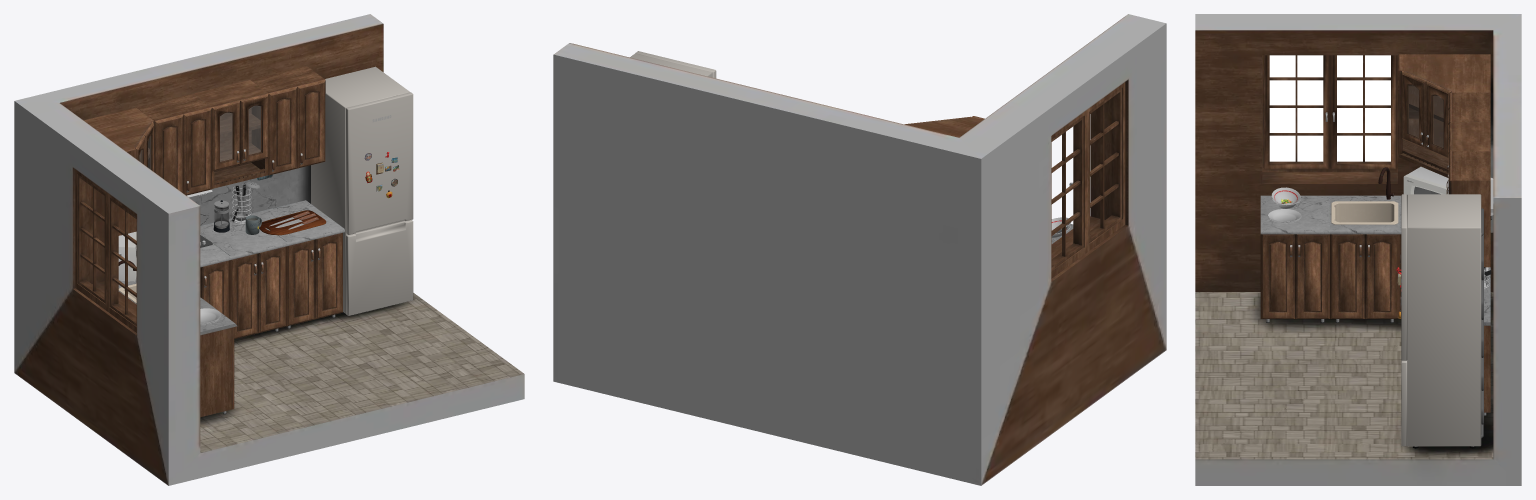
File: wooden_kitchen-optimized.glb
The picture shows the model from 3 angles, left to right: view 1: azimuth 30°, elevation 25°; view 2: azimuth 150°, elevation 25°; view 3: azimuth 270°, elevation 25°; orthographic projection. The views are drawn at different scales.
Parts seen in each view (by area): view 1: object 1, fridge1_low.001_58, fridge1_low_57, fridge1_low.002_59, window1_low_115, cupboard1_low.004_19, cupboardups1_low_41, cupboardup2_low.001_34, cupboardup2_low_33, cupboardup2_low.004_38, cupboard2_low.004_15, cupboard2_low.003_11 (+15 smaller); view 2: object 1, window1_low_115, window2_low_116, cupboardupsbok1_low_49; view 3: object 1, fridge1_low_57, window4_low_118, window1_low_115, cupboardupsbok1_low_49, cupboard2_low.007_29, cupboard2_low.008_20, cupboard2_low.009_21, cupboard2_low.006_28, cupboardup1_low_32, cupboard1_low.004_19, object 91 (+16 smaller).
Boxes of the visible parts, x1=… form: object 1: x1=14, y1=14, x2=524, y2=485; fridge1_low.001_58: x1=346, y1=92, x2=413, y2=234; fridge1_low_57: x1=311, y1=66, x2=409, y2=313; fridge1_low.002_59: x1=346, y1=220, x2=413, y2=315; window1_low_115: x1=78, y1=174, x2=136, y2=326; cupboard1_low.004_19: x1=200, y1=299, x2=237, y2=417; cupboardups1_low_41: x1=193, y1=80, x2=268, y2=188; cupboardup2_low.001_34: x1=268, y1=86, x2=296, y2=175; cupboardup2_low_33: x1=297, y1=79, x2=325, y2=168; cupboardup2_low.004_38: x1=183, y1=107, x2=211, y2=195; cupboard2_low.004_15: x1=286, y1=239, x2=314, y2=326; cupboard2_low.003_11: x1=258, y1=246, x2=286, y2=333; object 1: x1=553, y1=14, x2=1166, y2=485; window1_low_115: x1=1051, y1=88, x2=1122, y2=270; window2_low_116: x1=1051, y1=82, x2=1125, y2=278; cupboardupsbok1_low_49: x1=906, y1=116, x2=984, y2=137; object 1: x1=1195, y1=14, x2=1521, y2=485; fridge1_low_57: x1=1407, y1=194, x2=1481, y2=446; window4_low_118: x1=1269, y1=55, x2=1390, y2=161; window1_low_115: x1=1264, y1=55, x2=1396, y2=169; cupboardupsbok1_low_49: x1=1399, y1=54, x2=1490, y2=177; cupboard2_low.007_29: x1=1364, y1=234, x2=1399, y2=318; cupboard2_low.008_20: x1=1260, y1=234, x2=1294, y2=318; cupboard2_low.009_21: x1=1295, y1=234, x2=1329, y2=318; cupboard2_low.006_28: x1=1330, y1=234, x2=1364, y2=318; cupboardup1_low_32: x1=1451, y1=151, x2=1490, y2=267; cupboard1_low.004_19: x1=1260, y1=195, x2=1329, y2=234; object 91: x1=1331, y1=201, x2=1398, y2=224.
Bounding box in the file's own units: 3.98 × 2.91 × 2.98.
29 materials, 25 textured.
